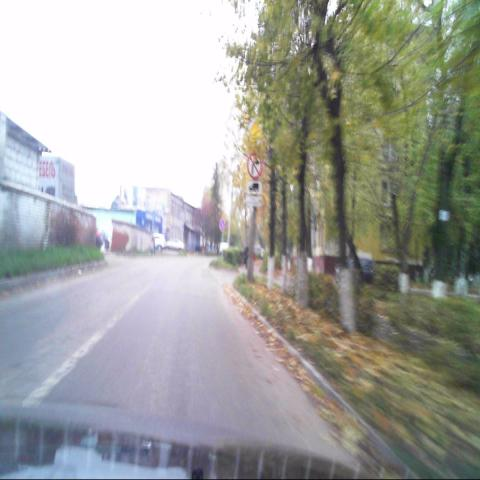3_18: (246, 154, 262, 180)
